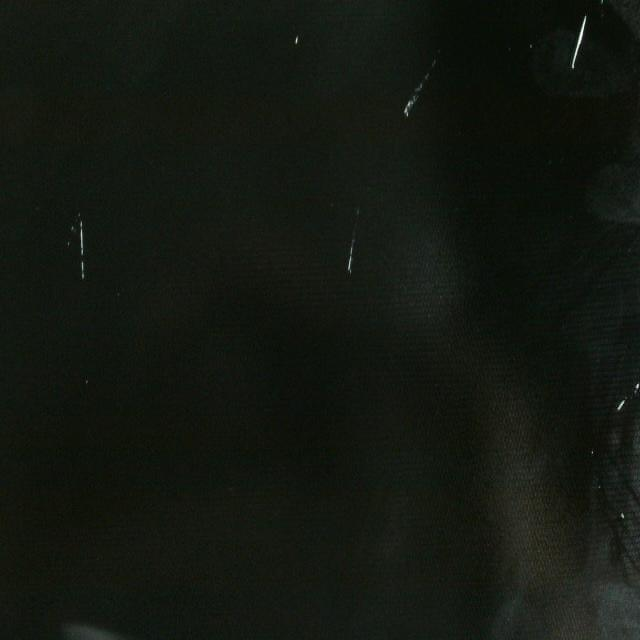scratch: (396, 63, 439, 125), (566, 10, 594, 80), (72, 200, 90, 293), (615, 370, 639, 438), (343, 220, 362, 283)
very small scratch: (290, 25, 308, 53)
